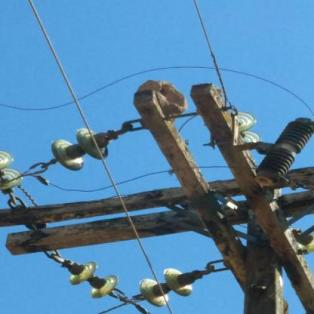Poste: (214, 191, 309, 314)
